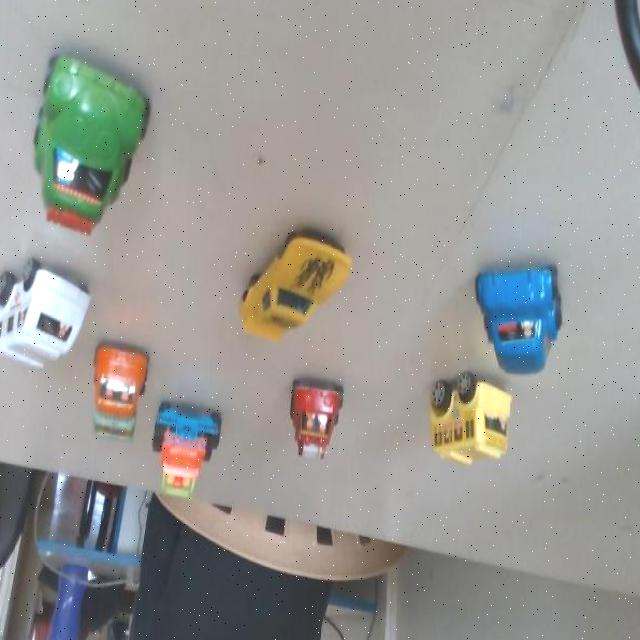car: (0, 0, 185, 260), (205, 206, 369, 357), (0, 218, 114, 407), (467, 245, 571, 381), (148, 401, 235, 511), (80, 329, 152, 454), (416, 360, 504, 461), (279, 368, 345, 462)
